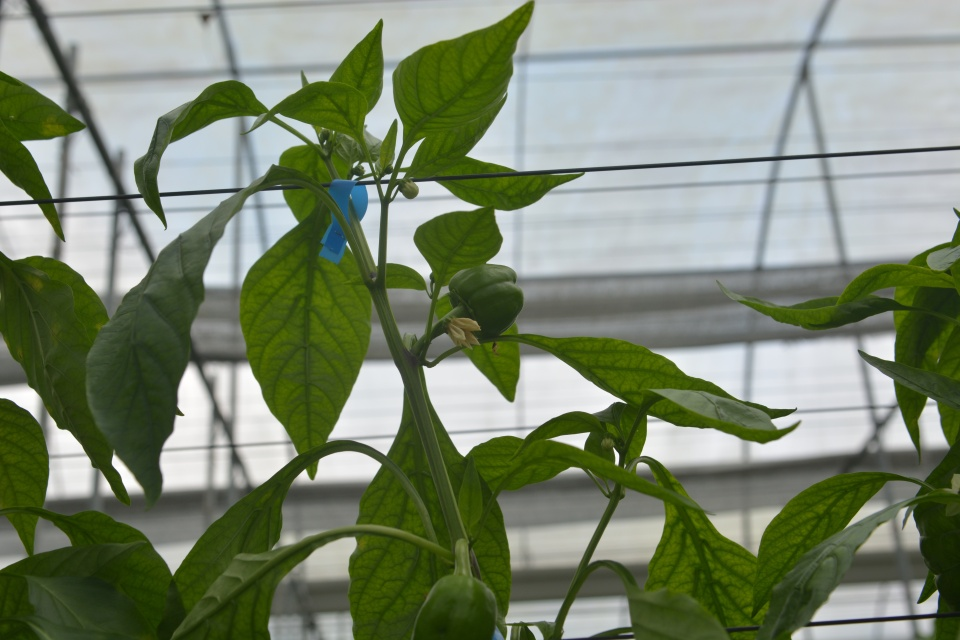flower: (446, 316, 483, 352)
immature: (409, 571, 500, 640), (447, 262, 526, 340)
